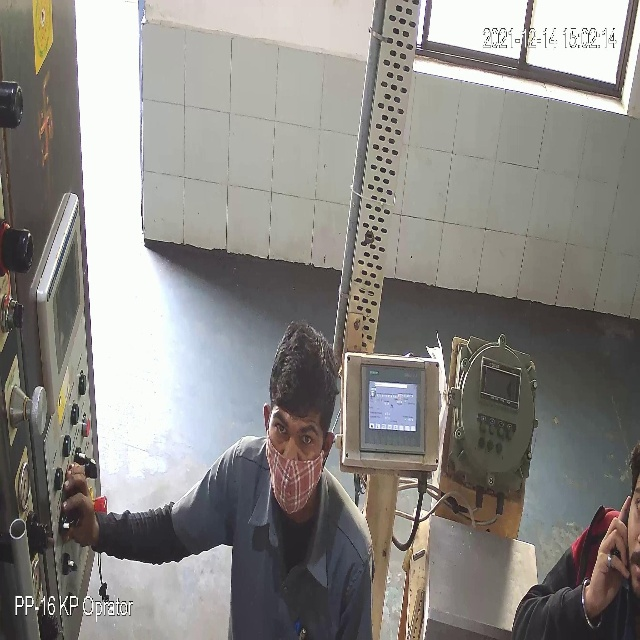Sin_gafas: (270, 412, 321, 461)
